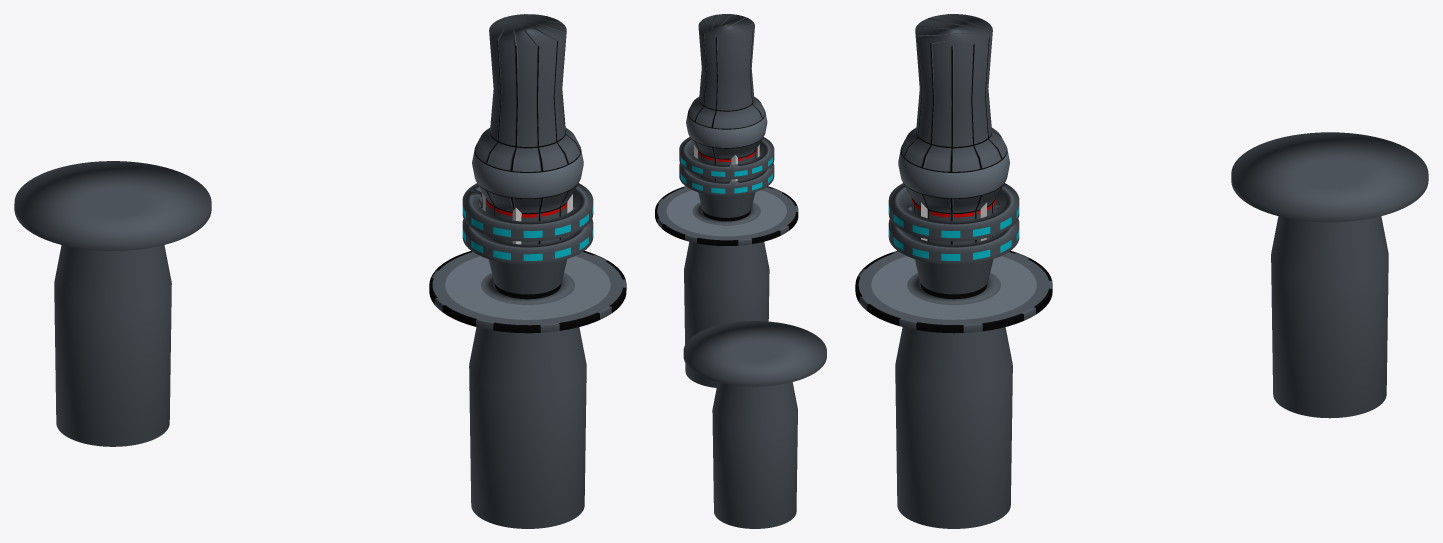
The model's file is ЧТО-ТО.fbx.
3 renders of one model, left to right at view 1: azimuth 30°, elevation 25°; view 2: azimuth 150°, elevation 25°; view 3: azimuth 270°, elevation 25°, orthographic. The views are drawn at different scales.
Parts seen in each view (by area): view 1: Cylinder.001, Cylinder.002, Cylinder.003, Cylinder.004; view 2: Cylinder.001, Cylinder.002, Cylinder.003, Cylinder.004; view 3: Cylinder.001, Cylinder.002, Cylinder.003, Cylinder.004.
Boxes of the visible parts, bbox=[...] form: Cylinder.001: bbox=[429, 14, 626, 528]; Cylinder.002: bbox=[14, 161, 211, 446]; Cylinder.003: bbox=[462, 183, 593, 241]; Cylinder.004: bbox=[462, 205, 593, 264]; Cylinder.001: bbox=[655, 14, 798, 387]; Cylinder.002: bbox=[683, 321, 826, 528]; Cylinder.003: bbox=[679, 137, 774, 179]; Cylinder.004: bbox=[679, 153, 774, 196]; Cylinder.001: bbox=[855, 14, 1052, 528]; Cylinder.002: bbox=[1231, 132, 1428, 418]; Cylinder.003: bbox=[888, 183, 1019, 241]; Cylinder.004: bbox=[888, 203, 1019, 264].
Size of the model in its own units: 1392 by 1587 by 1737.
